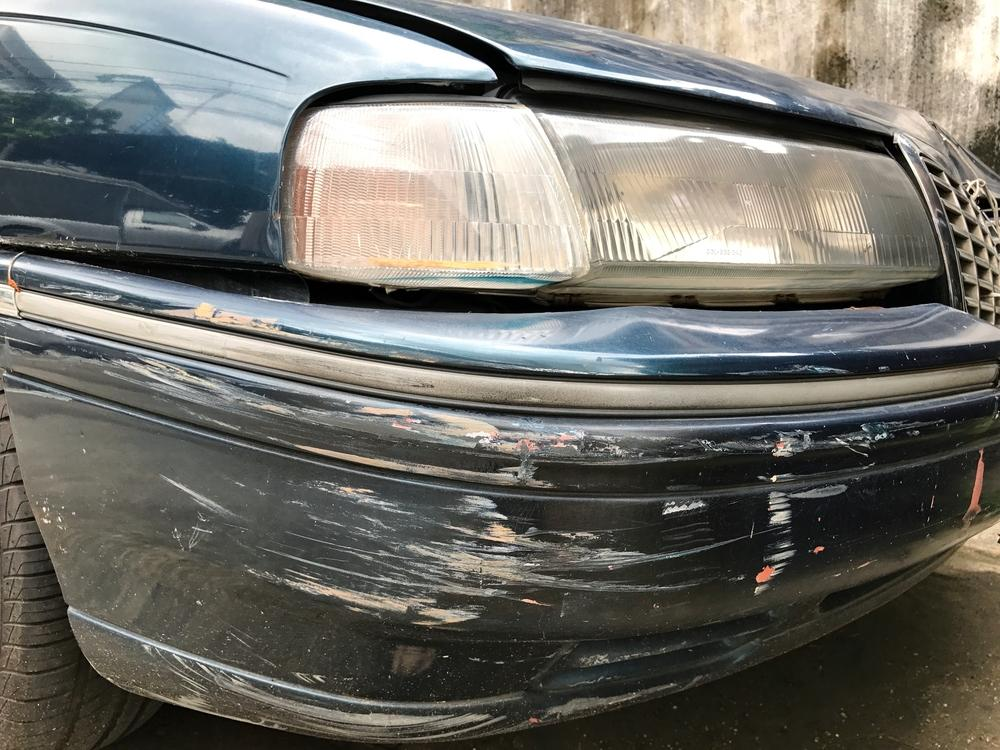scratch: (6, 275, 887, 746)
